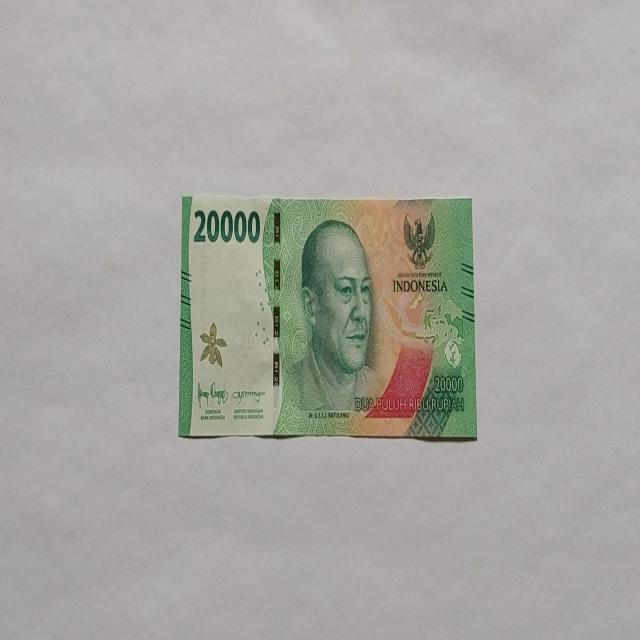dua puluh ribu rupiah: (177, 193, 477, 441), (274, 217, 386, 436)
